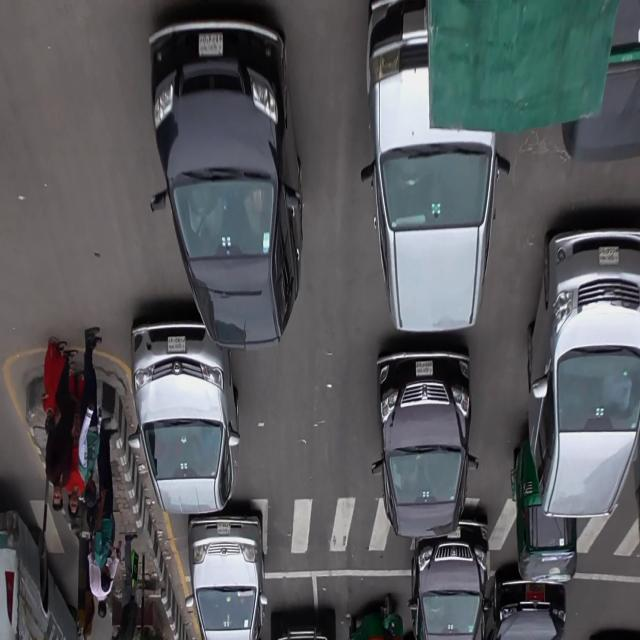black: (150, 16, 306, 348), (380, 350, 474, 539), (412, 513, 490, 639)
silver: (373, 0, 498, 337), (527, 215, 640, 525), (128, 322, 237, 515), (190, 509, 268, 640)
